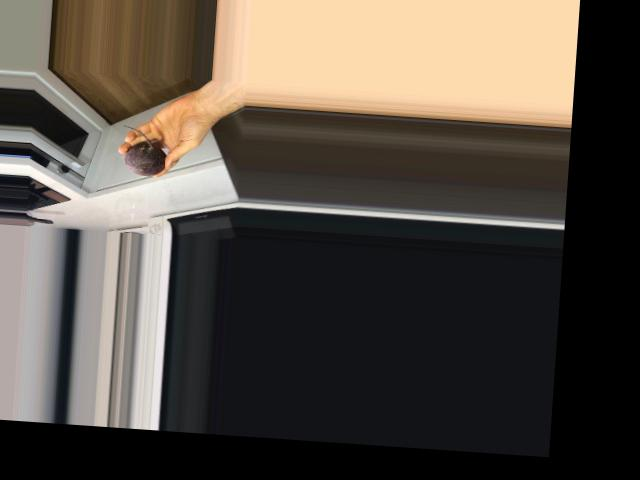beet: (119, 124, 167, 177)
